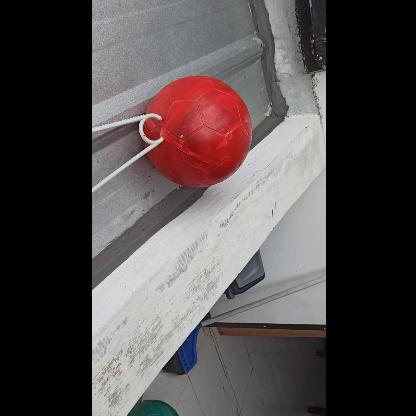red_ball: (140, 76, 252, 188)
